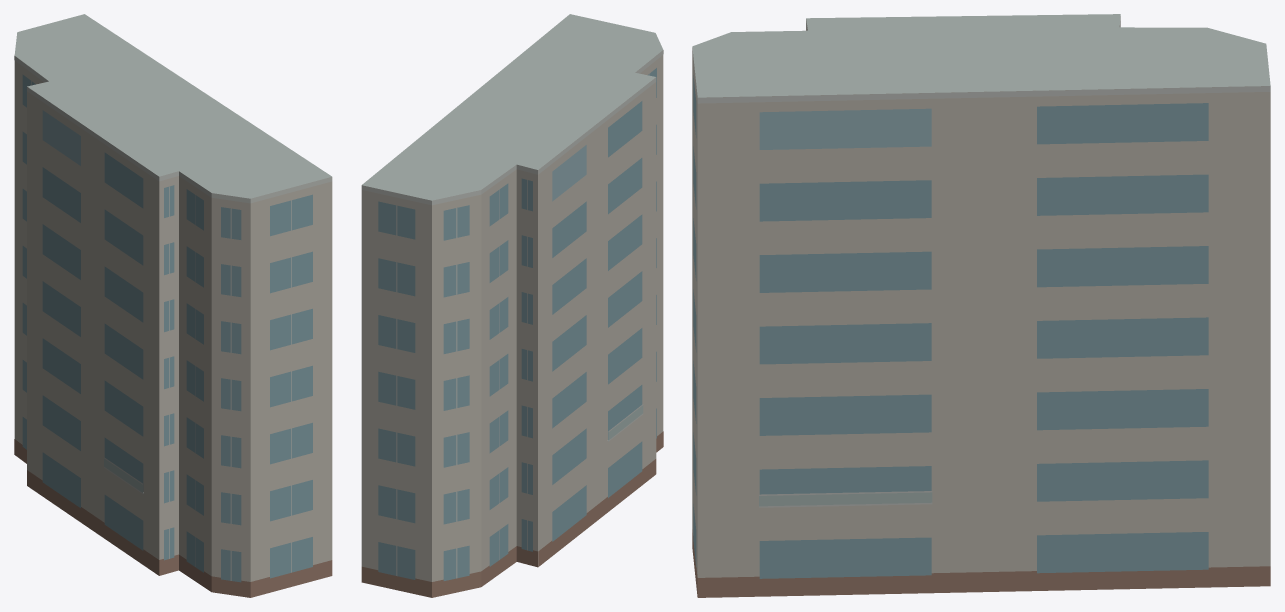
File: survey-upis-32738129.glb
3 renders of one model, left to right at view 1: azimuth 30°, elevation 25°; view 2: azimuth 150°, elevation 25°; view 3: azimuth 270°, elevation 25°, orthographic. The views are drawn at different scales.
Visible parts, largest first — view 1: survey-upis-32738129.tmp; view 2: survey-upis-32738129.tmp; view 3: survey-upis-32738129.tmp.
Part boxes in pixels (left/top/right/bottom): survey-upis-32738129.tmp: left=14, top=14, right=332, bottom=597; survey-upis-32738129.tmp: left=361, top=14, right=663, bottom=597; survey-upis-32738129.tmp: left=692, top=14, right=1270, bottom=597.
Size of the model in its own units: 7.43 by 20.7 by 21.7.
